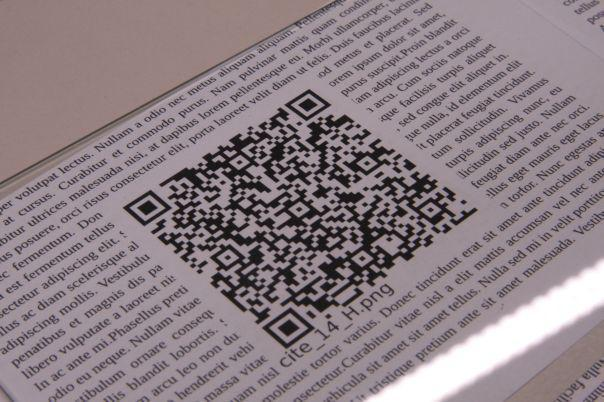qr_code: (123, 90, 479, 350)
